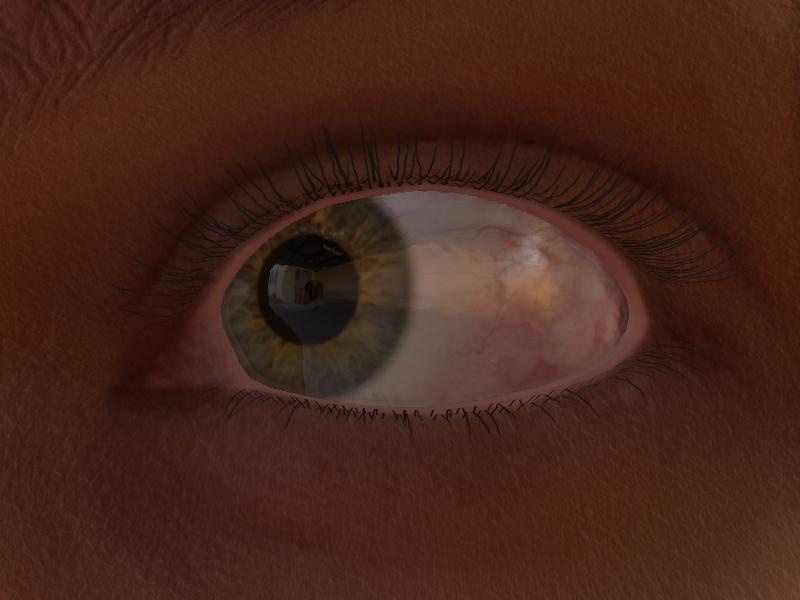eye: (219, 197, 414, 392)
